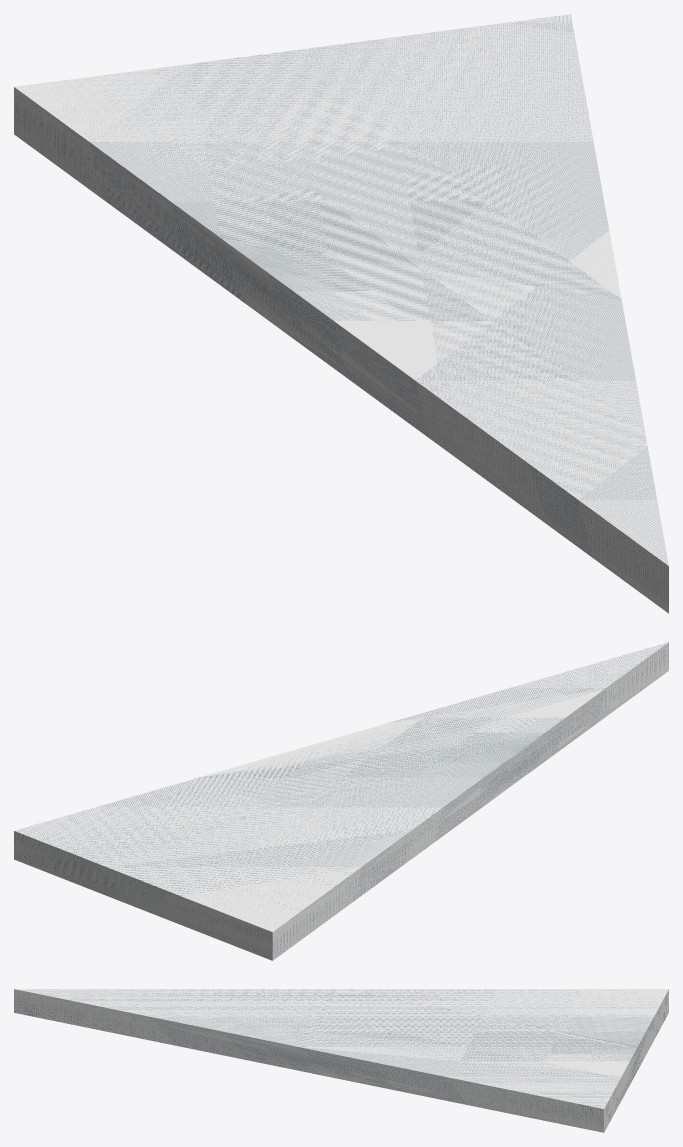
The model's file is triangle 25 deg.fbx.
3 renders of one model, top to bottom at view 1: azimuth 30°, elevation 25°; view 2: azimuth 150°, elevation 25°; view 3: azimuth 270°, elevation 25°, orthographic. The views are drawn at different scales.
Parts seen in each view (by area): view 1: Model; view 2: Model; view 3: Model.
Part boxes in pixels (<box>): Model: <box>14,14,668,613</box>; Model: <box>14,642,668,960</box>; Model: <box>14,989,668,1132</box>.
Size of the model in its own units: 2.17 by 0.2 by 5.
